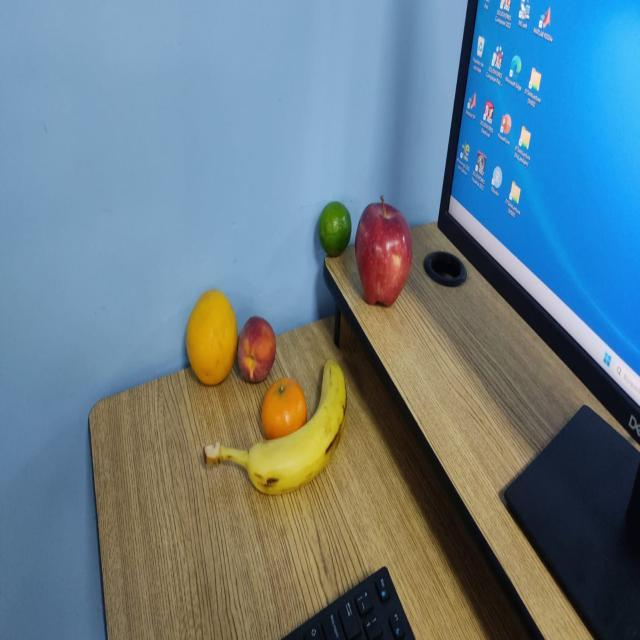Apel Merah: (352, 188, 418, 316)
Jeruk: (183, 286, 240, 388)
Jeruk Mandarin: (258, 375, 310, 443)
Lemon: (316, 198, 354, 260)
Persik: (234, 312, 279, 387)
Pisang: (200, 350, 350, 506)
